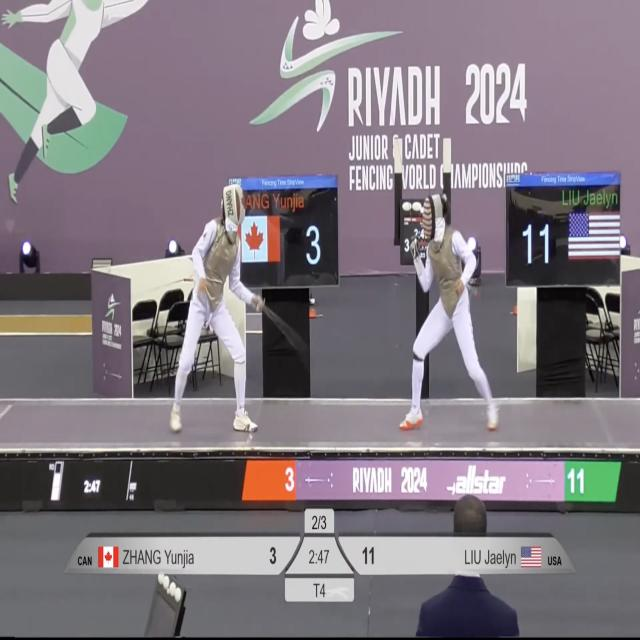fencer: (167, 170, 265, 437), (408, 192, 504, 441)
overlayLeft: (68, 529, 244, 577)
overlayRight: (386, 537, 575, 573)
scoreLeft: (248, 531, 303, 575)
scoreRight: (333, 537, 381, 575)
